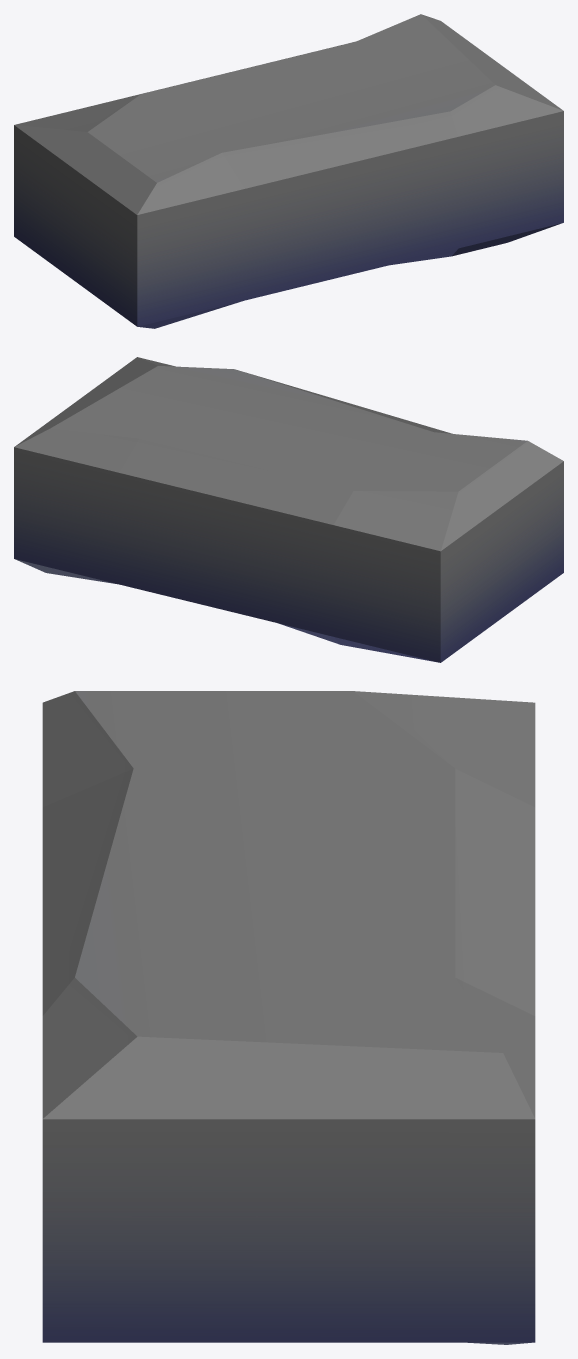
The model's file is Brick1.fbx.
3 views of the same model, one above another, from view 1: azimuth 30°, elevation 25°; view 2: azimuth 150°, elevation 25°; view 3: azimuth 270°, elevation 25° (orthographic). The views are drawn at different scales.
Parts seen in each view (by area): view 1: Cube; view 2: Cube; view 3: Cube.
Part boxes in pixels (x1,y1,x2,y2): Cube: (14, 14, 563, 328); Cube: (14, 357, 563, 662); Cube: (42, 691, 535, 1344).
Size of the model in its own units: 400 by 129 by 200.
